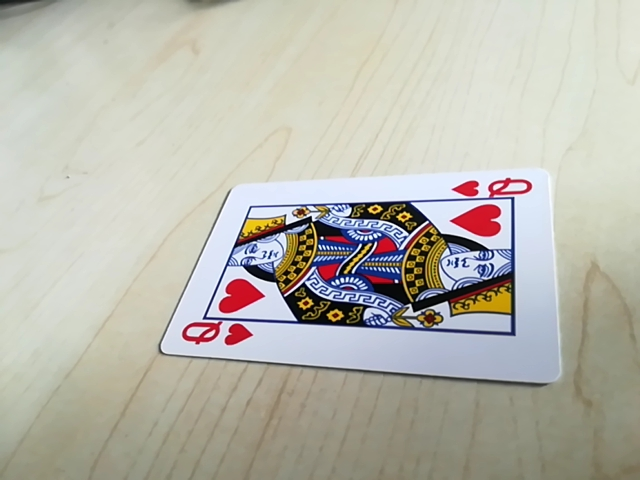hx q: (451, 173, 541, 202), (177, 321, 255, 353)
